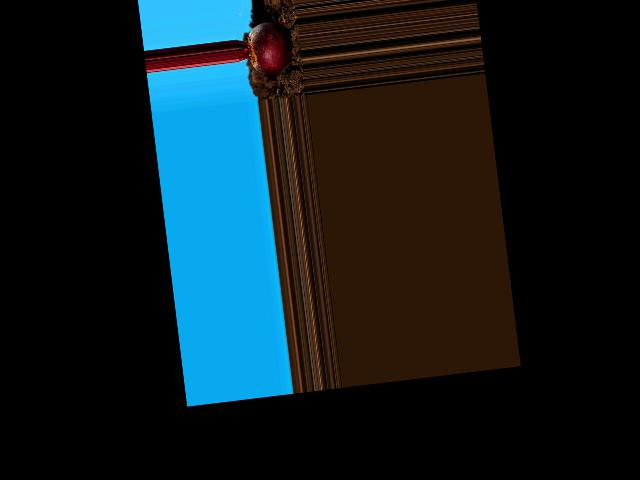beet: (234, 19, 294, 77)
